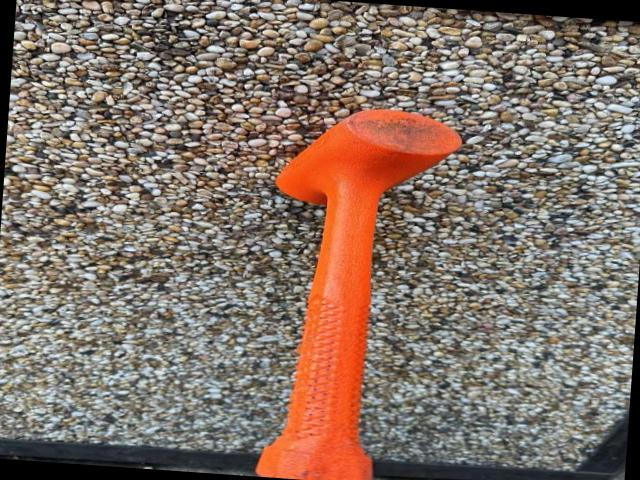hammer: (254, 100, 463, 480)
